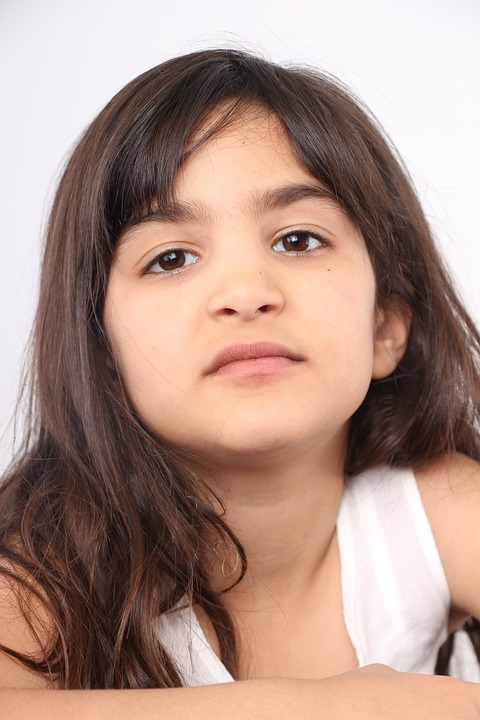sad: (72, 93, 396, 467)
